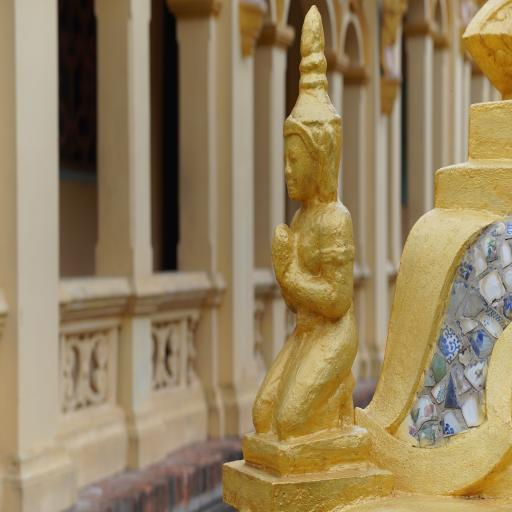than: (217, 4, 383, 474)
